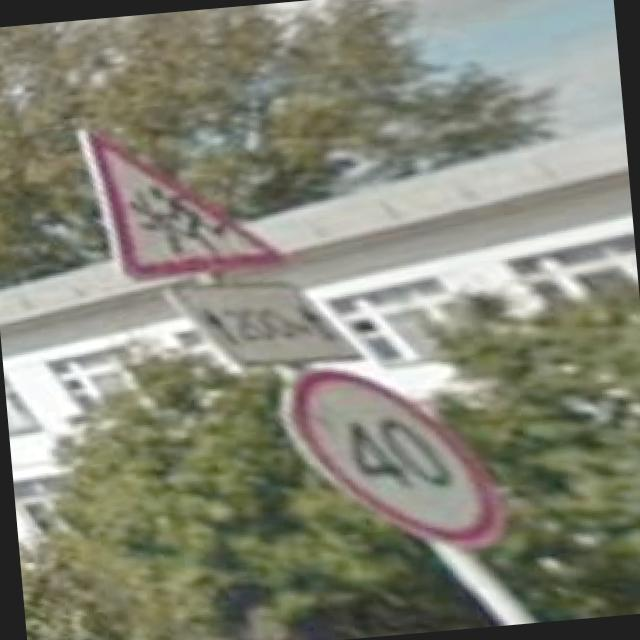Dzieci: (77, 110, 287, 284)
Ograniczenie predkosci do 40: (283, 350, 507, 566)
